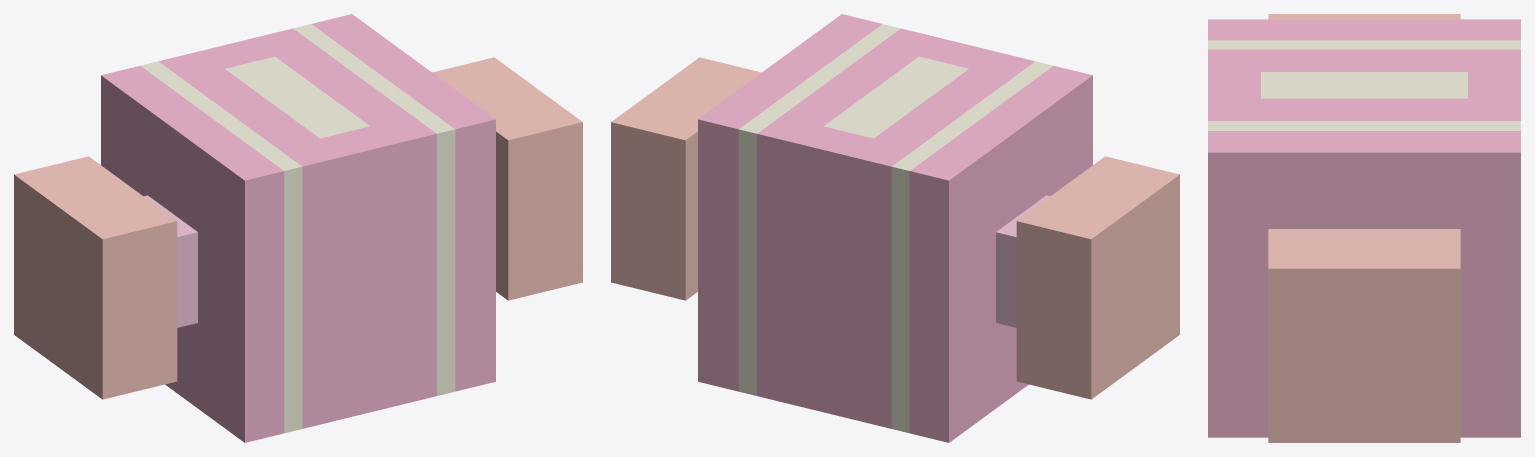
The model's file is candy.fbx.
3 views of the same model, side by side, from view 1: azimuth 30°, elevation 25°; view 2: azimuth 150°, elevation 25°; view 3: azimuth 270°, elevation 25° (orthographic). The views are drawn at different scales.
Parts seen in each view (by area): view 1: zdq_6; view 2: zdq_6; view 3: zdq_6.
Part boxes in pixels (x1,y1,x2,y2): zdq_6: (14, 14, 582, 442); zdq_6: (611, 14, 1179, 442); zdq_6: (1208, 14, 1520, 442).
Bounding box in the file's own units: 96.32 × 50.27 × 50.
